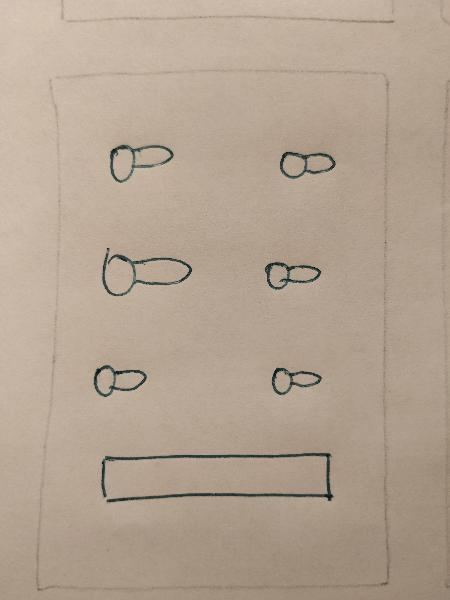switch: (94, 239, 193, 306), (99, 133, 179, 195), (81, 350, 154, 408), (270, 139, 339, 190), (257, 352, 326, 403), (259, 250, 327, 299)
text_input: (92, 445, 343, 514)
